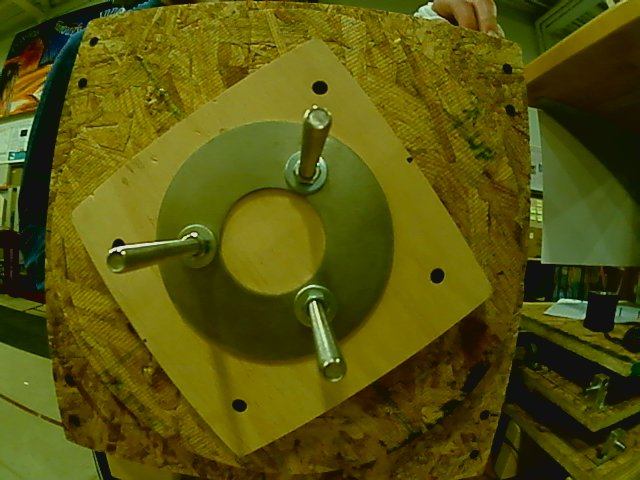bolt: (283, 147, 330, 196), (292, 283, 338, 329), (176, 222, 218, 270)
